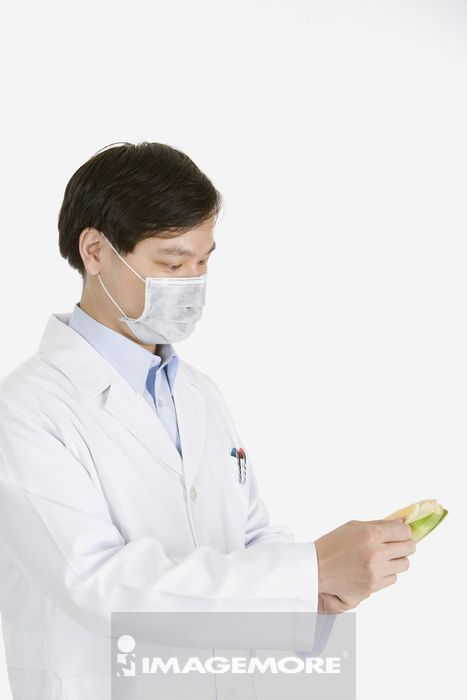mask: (120, 277, 208, 346)
